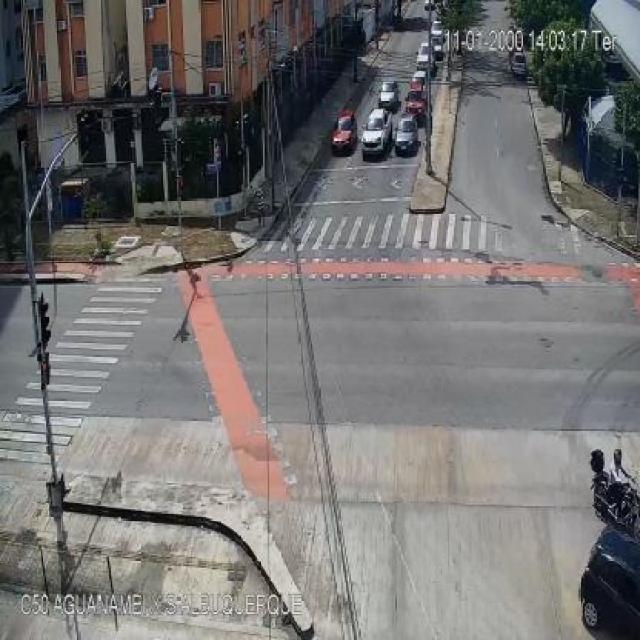Car: (578, 524, 639, 640), (359, 108, 394, 153), (331, 110, 358, 150), (394, 116, 419, 156), (378, 81, 400, 110), (416, 42, 432, 74), (510, 51, 527, 79), (412, 70, 428, 95), (428, 22, 444, 39)
Cycle: (587, 446, 640, 523)
